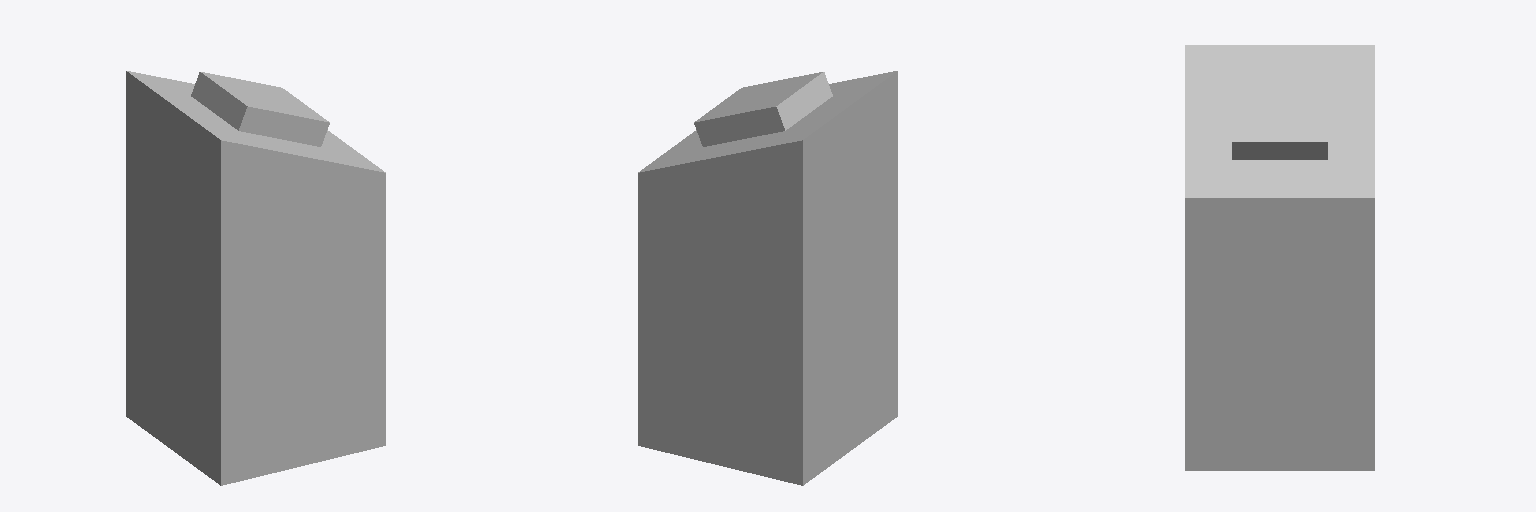
The model's file is testbutton1.obj.
3 renders of one model, left to right at view 1: azimuth 30°, elevation 25°; view 2: azimuth 150°, elevation 25°; view 3: azimuth 270°, elevation 25°, orthographic.
Size of the model in its own units: 1 by 2.02 by 1.